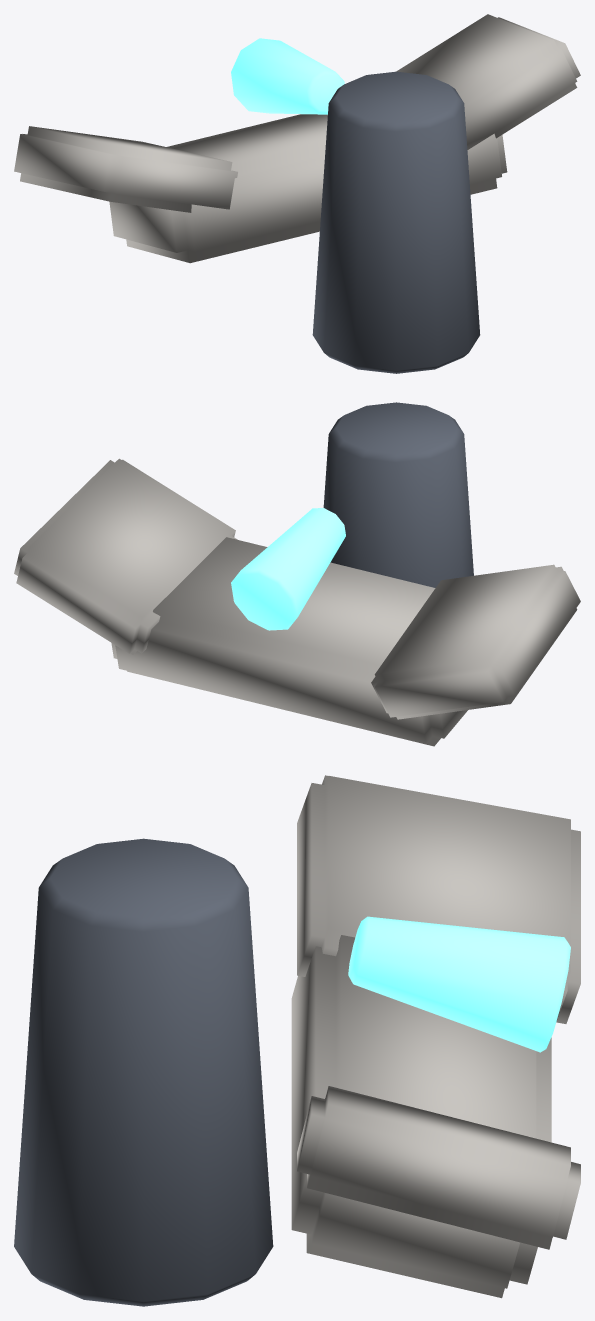
File: radar.glb
3 views of the same model, one above another, from view 1: azimuth 30°, elevation 25°; view 2: azimuth 150°, elevation 25°; view 3: azimuth 270°, elevation 25° (orthographic). The views are drawn at different scales.
Visible parts, largest first — view 1: radar; view 2: radar; view 3: radar.
Boxes of the visible parts, bbox=[...] form: radar: bbox=[14, 14, 580, 373]; radar: bbox=[14, 402, 580, 746]; radar: bbox=[14, 775, 580, 1306].
Bounding box in the file's own units: 0.515 × 0.24 × 0.3263.
